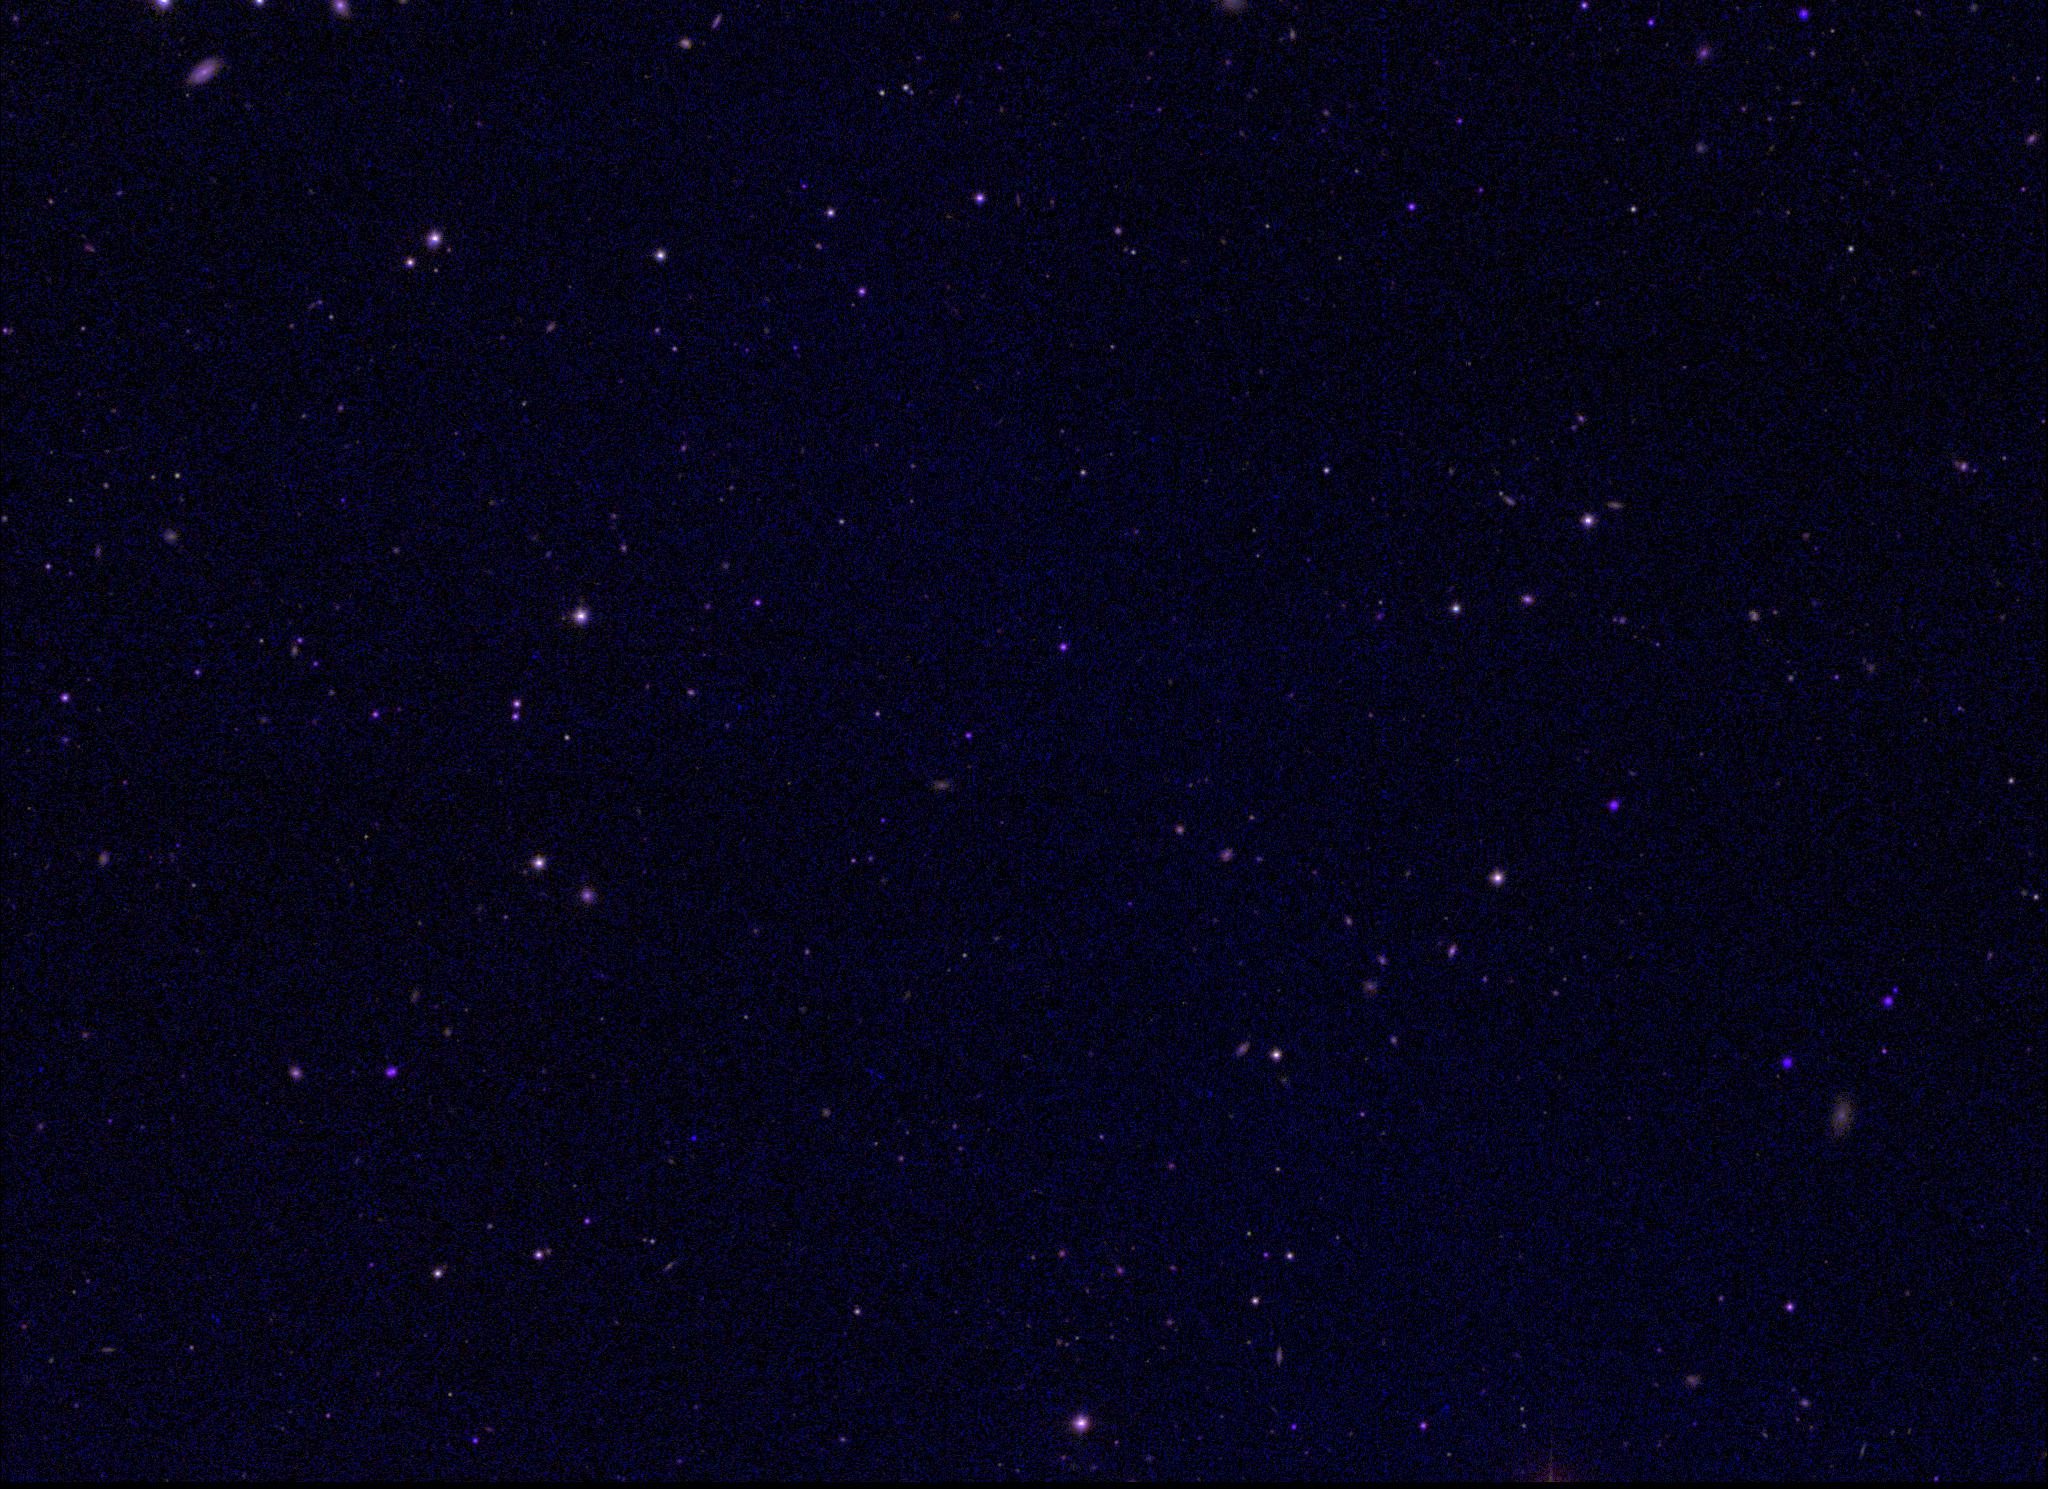L: (687, 1133, 701, 1145)
